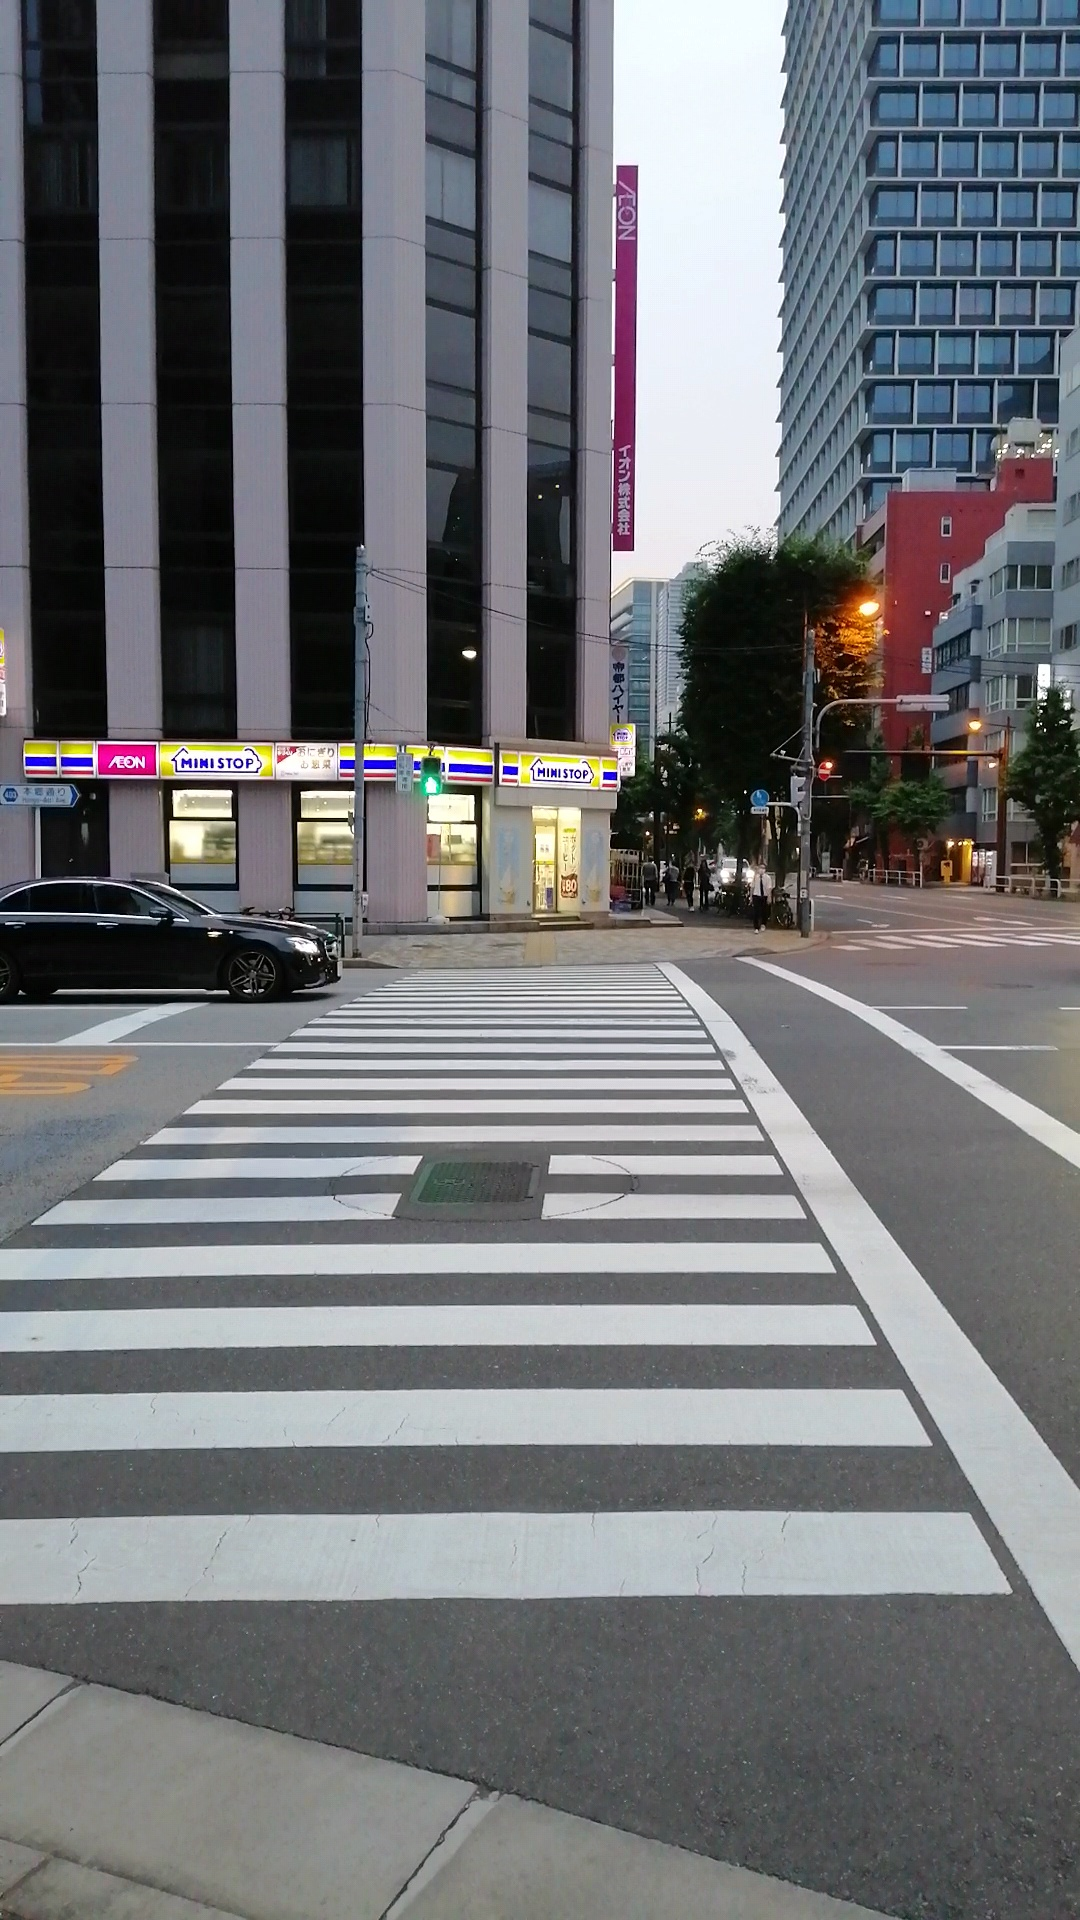green: (417, 754, 442, 798)
